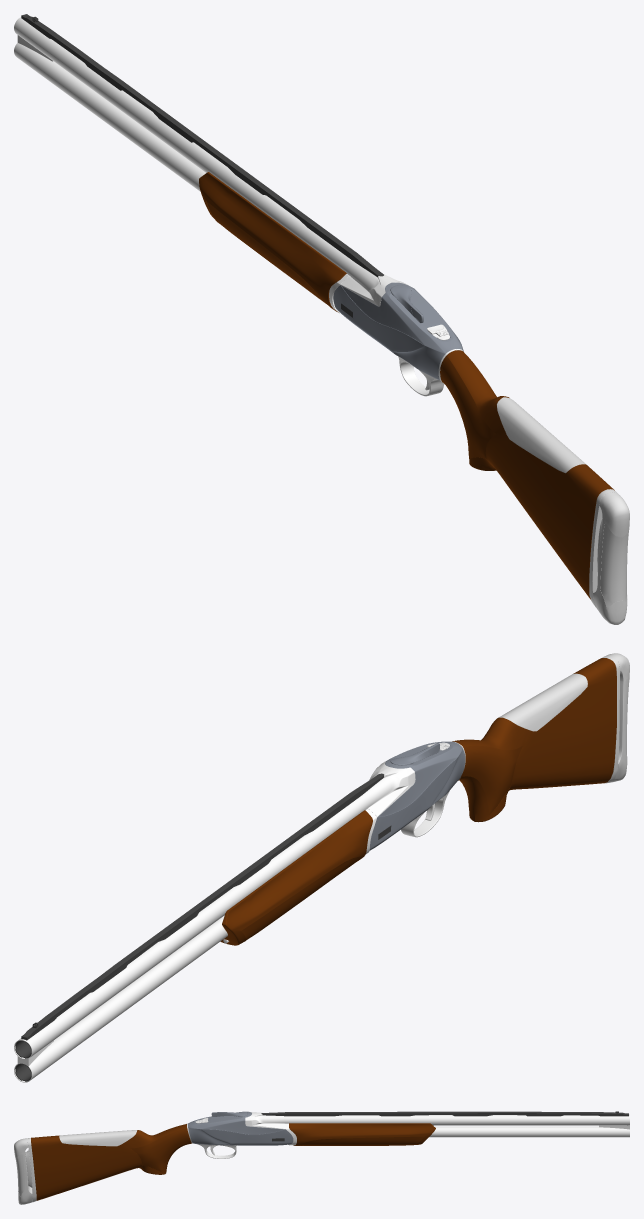
The model's file is Benelli 8282U.fbx.
3 views of the same model, one above another, from view 1: azimuth 30°, elevation 25°; view 2: azimuth 150°, elevation 25°; view 3: azimuth 270°, elevation 25° (orthographic). The views are drawn at different scales.
Visible parts, largest first — view 1: wood_pieces, metal_gunpoint, plastic_buttstock, switcher1, details; view 2: wood_pieces, metal_gunpoint, details, switcher1, plastic_buttstock, trigger; view 3: wood_pieces, metal_gunpoint, switcher1, plastic_buttstock, details, trigger.
Part boxes in pixels (x1,y1,x2,y2): wood_pieces: (199,172,614,599); metal_gunpoint: (14,17,410,306); plastic_buttstock: (497,397,629,624); switcher1: (333,282,463,380); details: (21,14,383,317); wood_pieces: (220,658,616,945); metal_gunpoint: (14,761,415,1082); details: (15,773,391,1081); switcher1: (369,741,465,850); plastic_buttstock: (498,653,629,783); trigger: (401,790,449,837); wood_pieces: (31,1123,435,1200); metal_gunpoint: (245,1111,629,1137); switcher1: (188,1111,293,1145); plastic_buttstock: (14,1130,137,1204); details: (261,1111,628,1141); trigger: (197,1144,237,1158).
Size of the model in its own units: 3.12 by 76.12 by 12.69.
